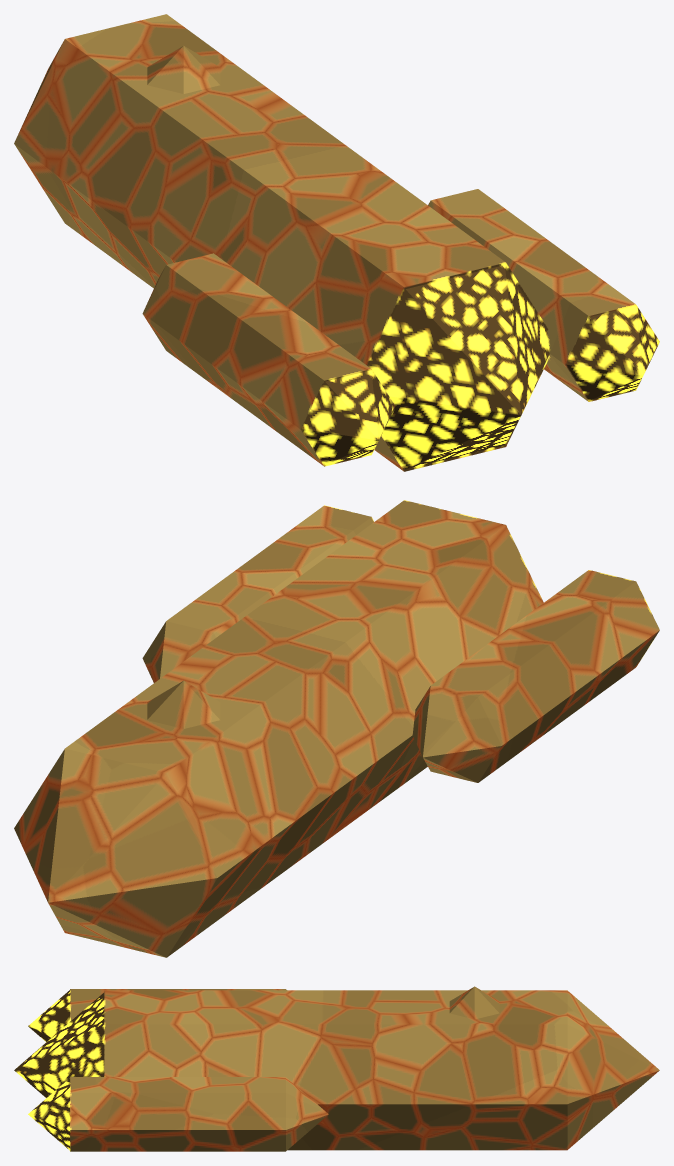
The model's file is vraygon_destroyer.glb.
3 views of the same model, one above another, from view 1: azimuth 30°, elevation 25°; view 2: azimuth 150°, elevation 25°; view 3: azimuth 270°, elevation 25° (orthographic). The views are drawn at different scales.
Parts seen in each view (by area): view 1: VraygonDestroyer; view 2: VraygonDestroyer; view 3: VraygonDestroyer.
Boxes of the visible parts, x1,y1,x2,y2 form: VraygonDestroyer: (14,14,659,471); VraygonDestroyer: (14,500,659,957); VraygonDestroyer: (14,986,659,1151).
Size of the model in its own units: 20.38 by 11.66 by 46.5.
1 material, 1 textured.
